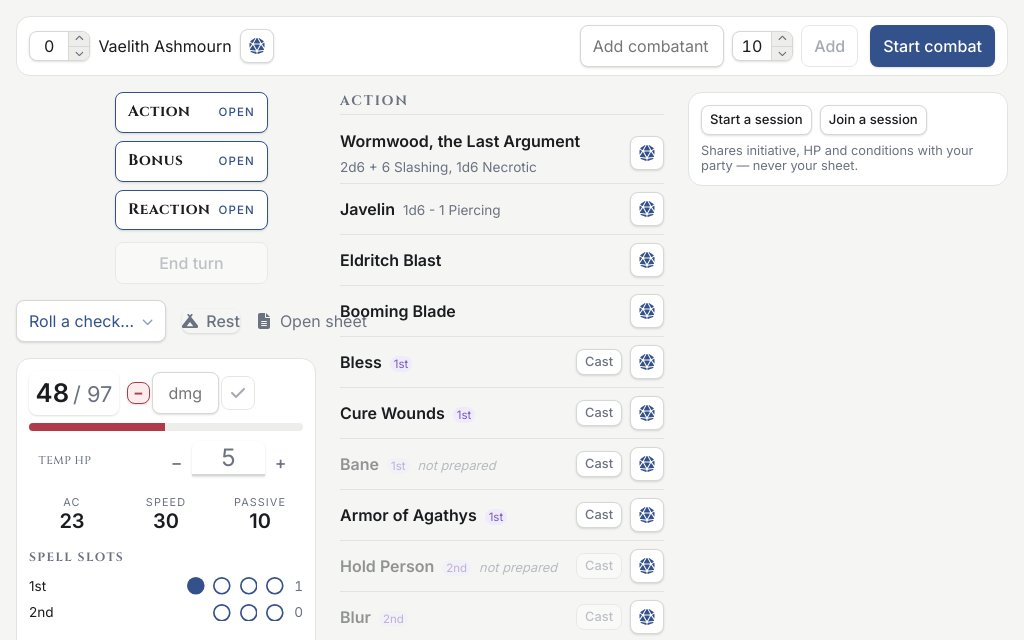
Test: per-round guidance on the play surface › switches to the your-turn banner when the order comes round
Type "Goblin" into the field named "Combatant name". click: (652, 46)
box: [580,25,724,67]
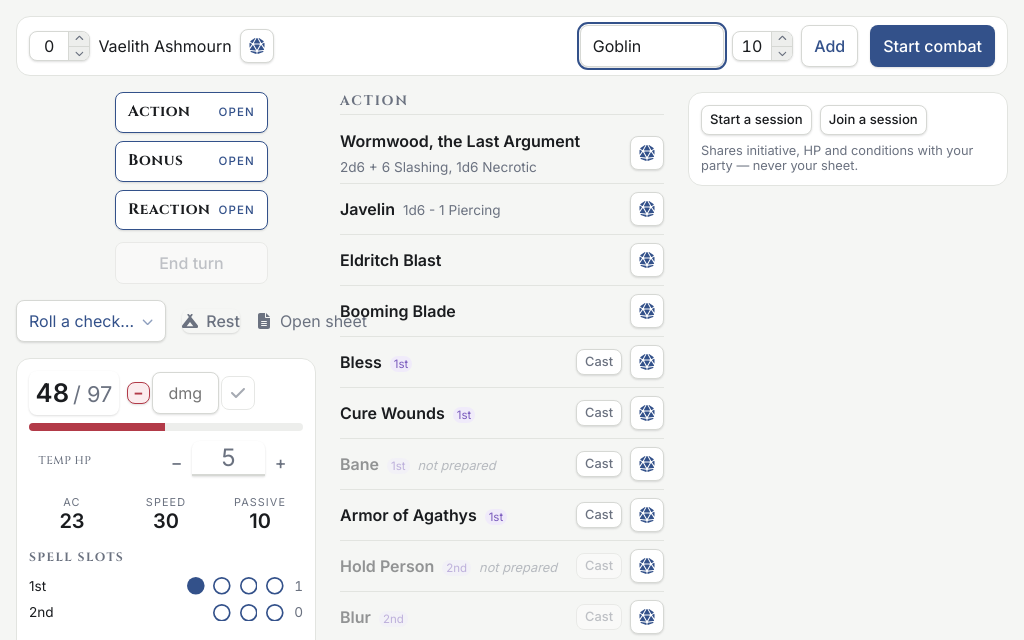
Click the submit button. click: (830, 46)
box: [801,25,858,67]
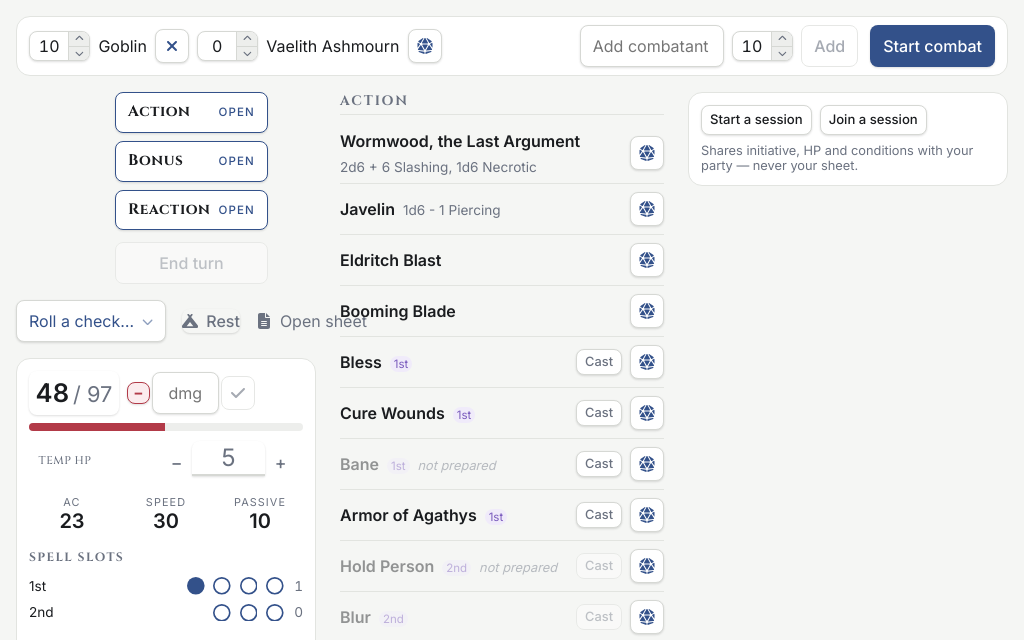
Click the button "Start combat". click: (933, 46)
box: [870,25,995,67]
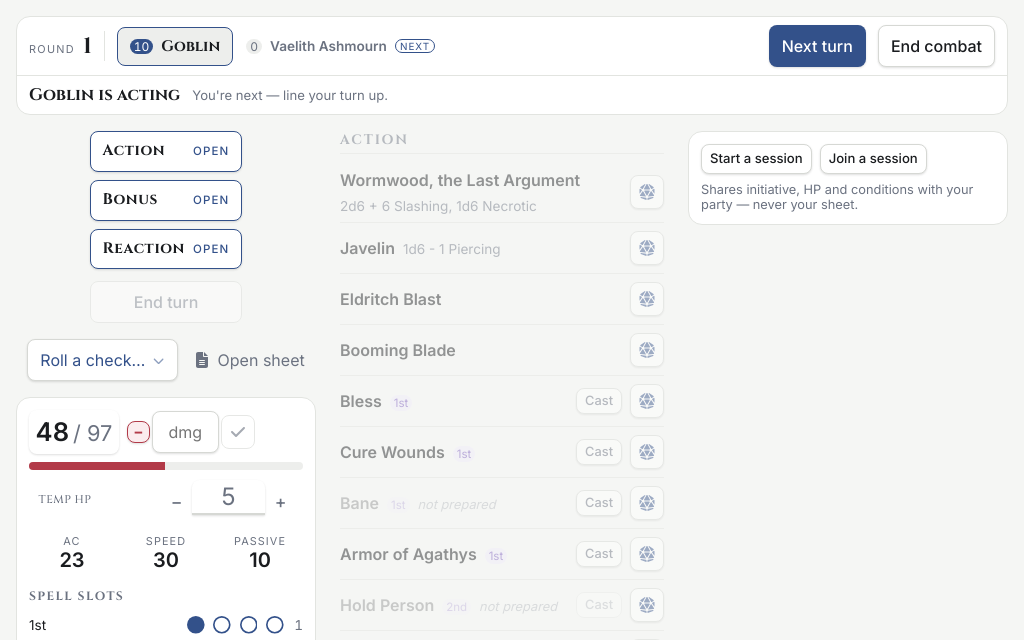
Click the button "Next turn". click: (817, 46)
box: [769,25,866,67]
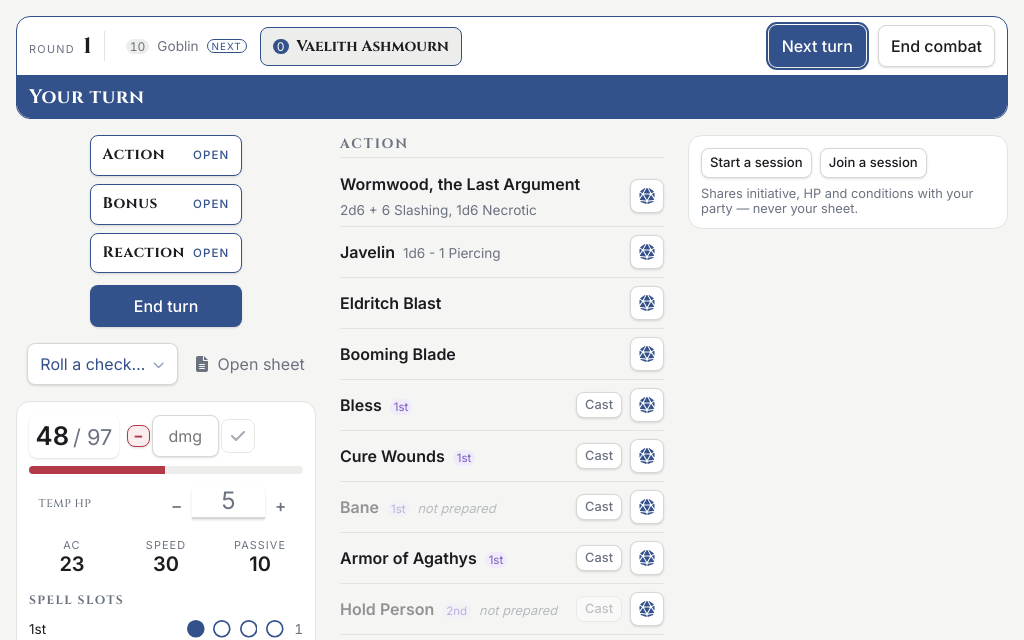
expect the text "Your turn" is shown: met, box [29,84,144,110]
